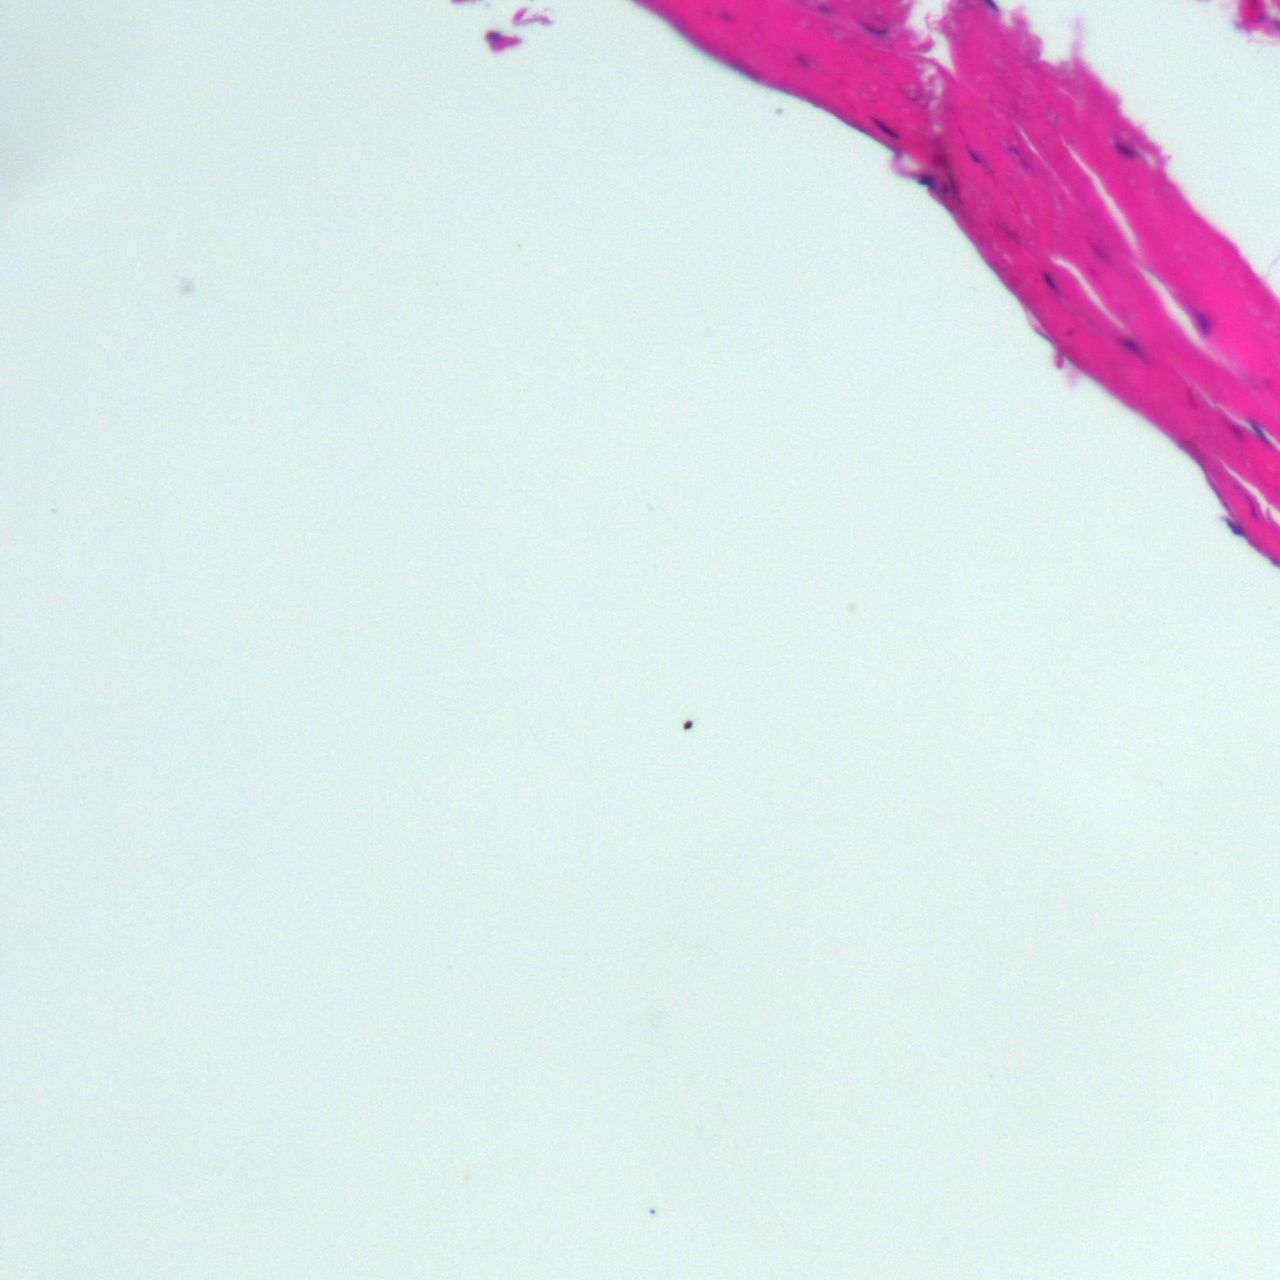nucleus-HE: (1114, 331, 1153, 369), (1185, 302, 1218, 338), (869, 111, 903, 143), (1109, 134, 1141, 166), (1244, 414, 1273, 447), (1037, 268, 1061, 294), (964, 144, 986, 169), (859, 20, 888, 35), (915, 176, 937, 188)
